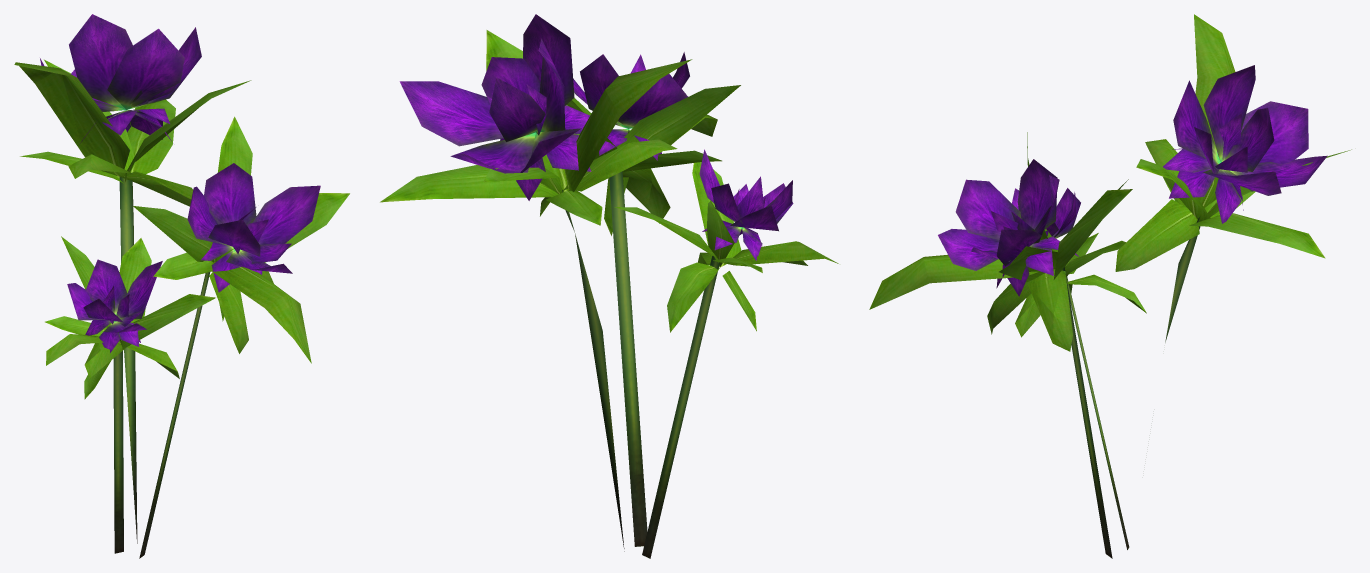
File: leafplant9_lod1.fbx
The picture shows the model from 3 angles, left to right: view 1: azimuth 30°, elevation 25°; view 2: azimuth 150°, elevation 25°; view 3: azimuth 270°, elevation 25°; orthographic projection. The views are drawn at different scales.
Visible parts, largest first — view 1: Mesh Object; view 2: Mesh Object; view 3: Mesh Object.
Part boxes in pixels (x1,y1,x2,y2): Mesh Object: (14, 14, 349, 558); Mesh Object: (380, 14, 838, 558); Mesh Object: (869, 14, 1351, 558).
Size of the model in its own units: 0.6621 by 1.04 by 0.9117.
